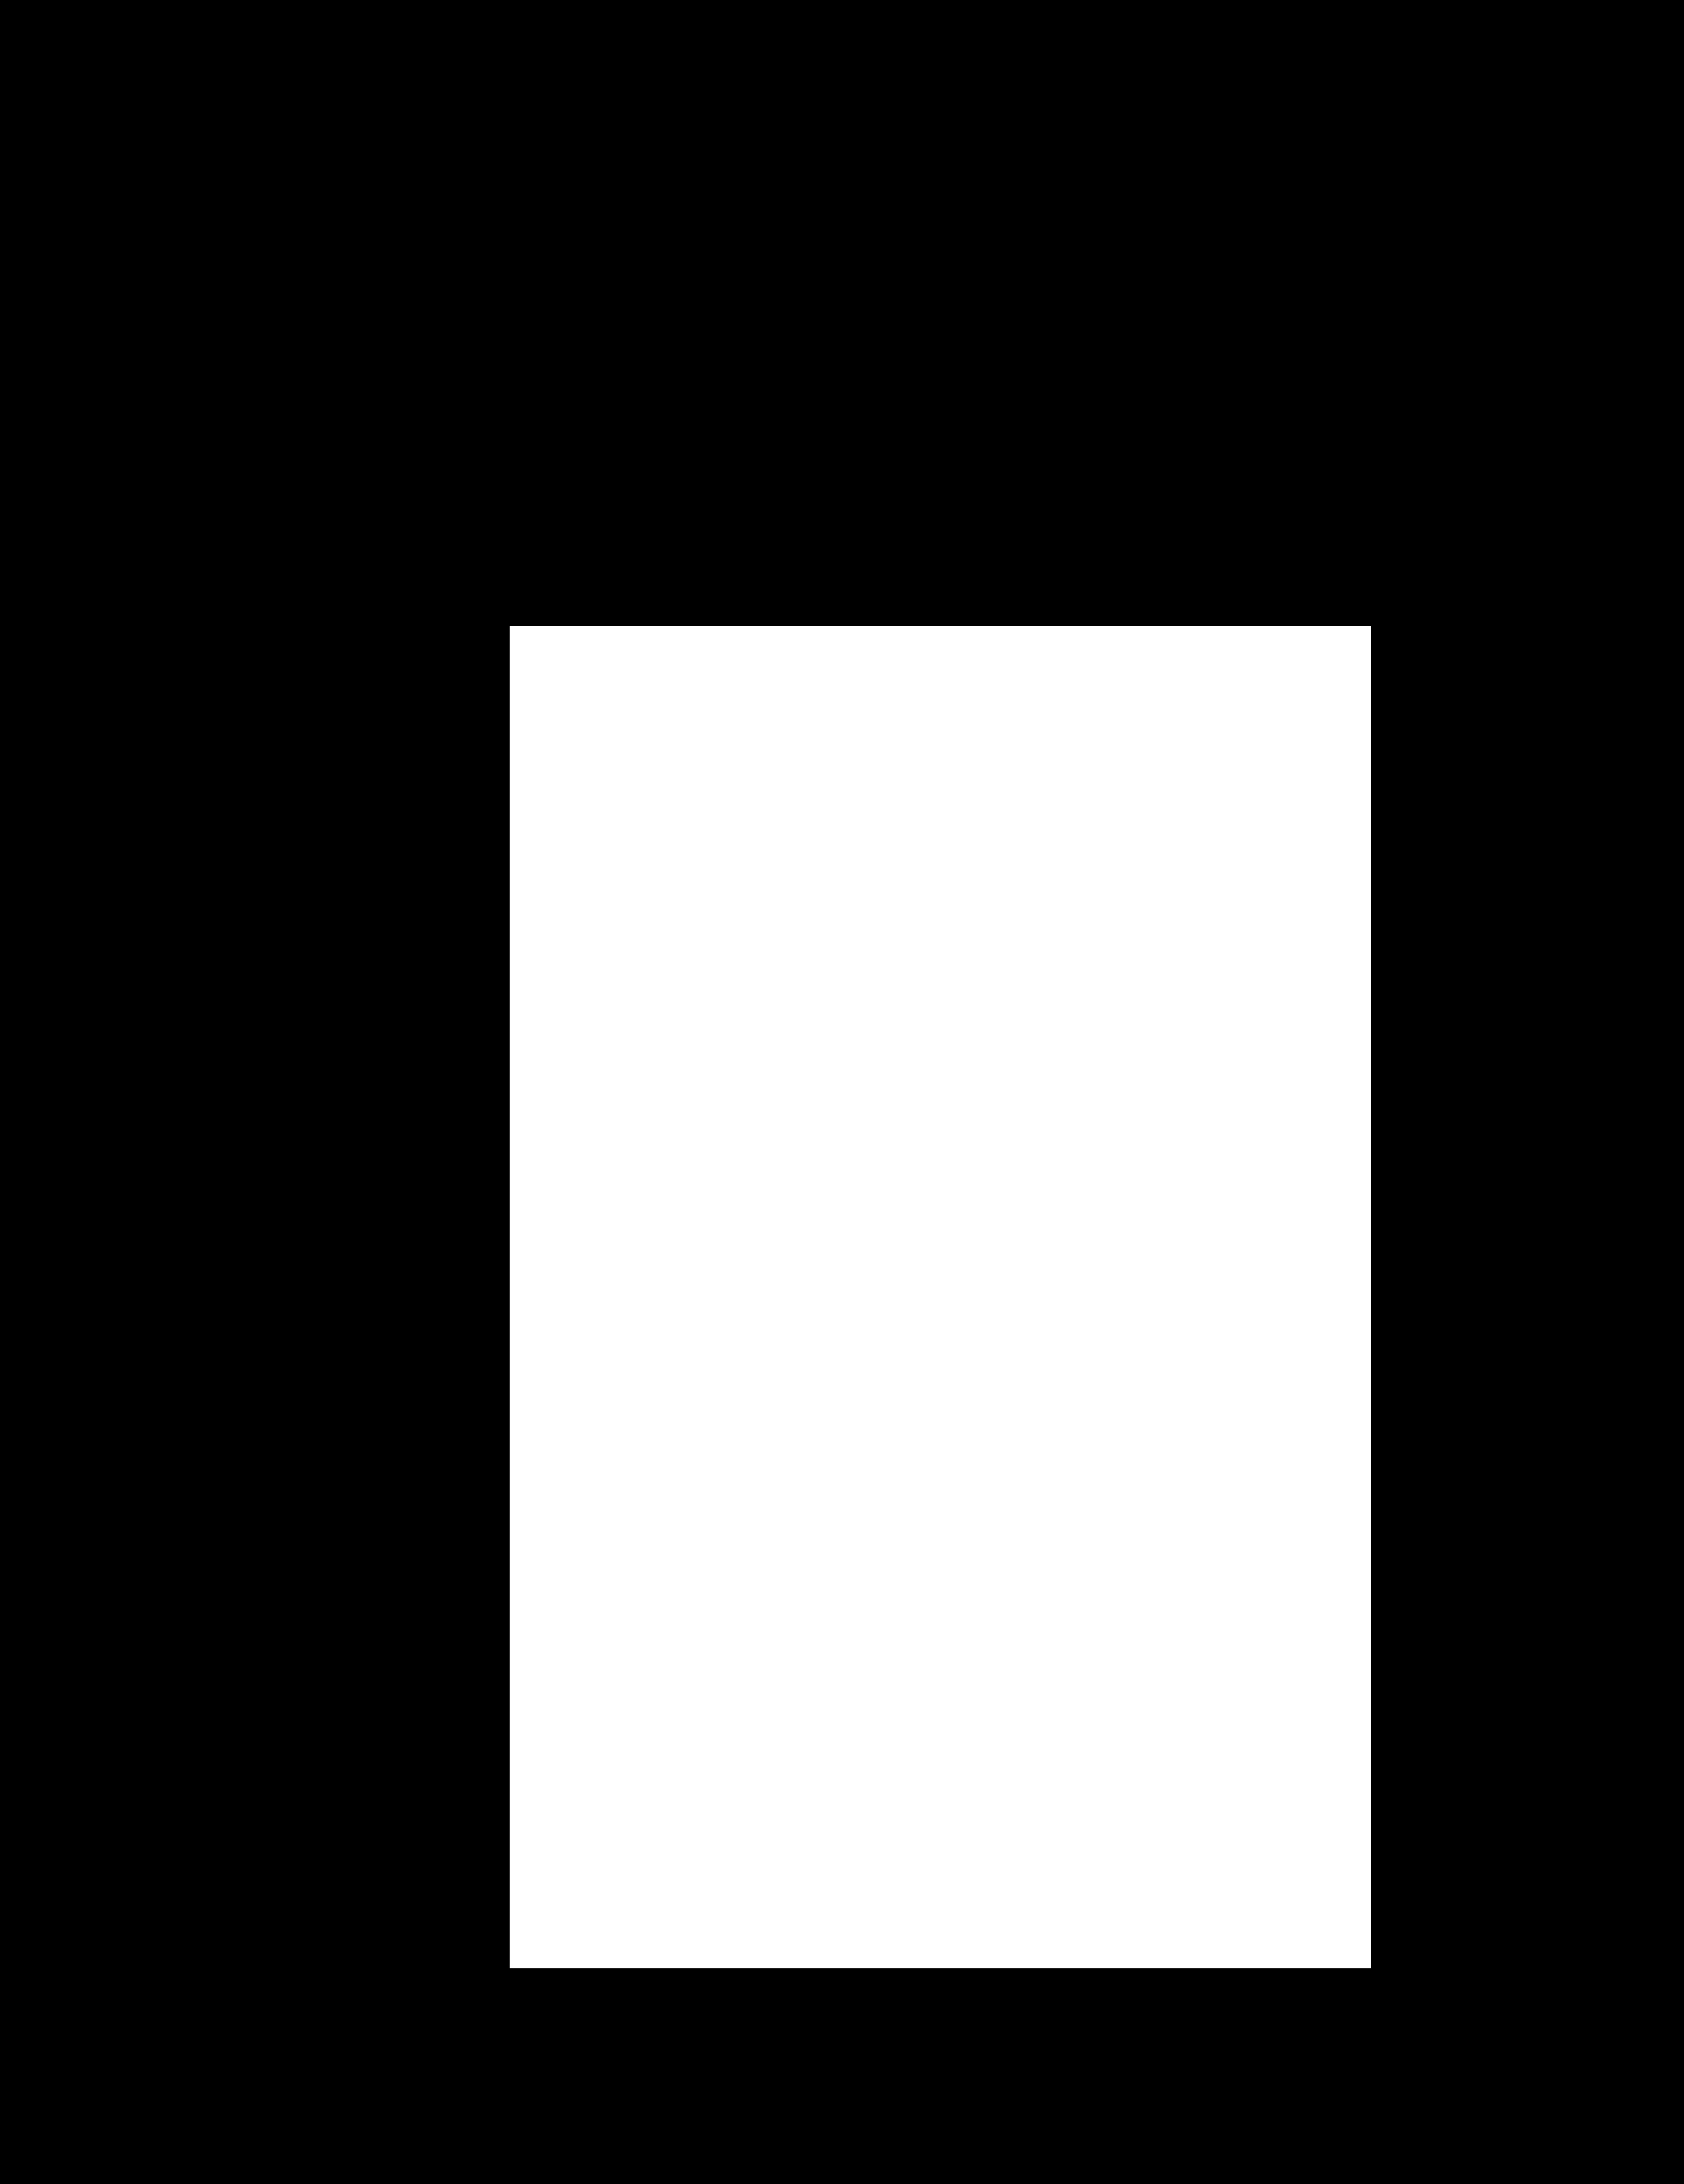table: (509, 626, 1371, 1968)
